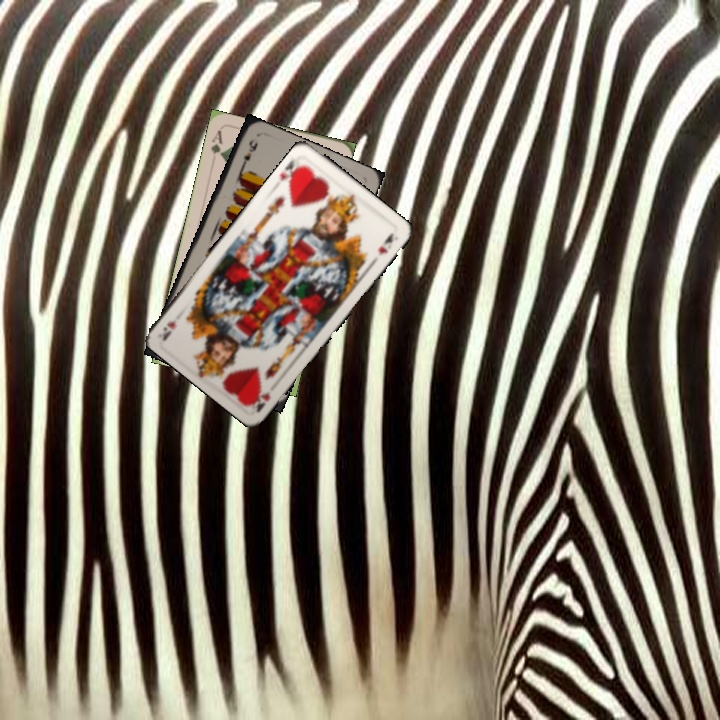E9: (237, 134, 261, 173)
GA: (207, 126, 225, 160)
HK: (276, 155, 308, 189), (246, 386, 273, 414)
